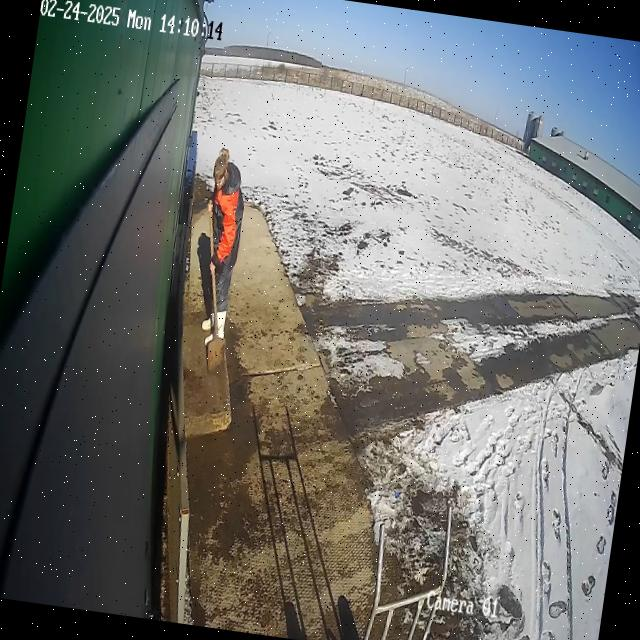Red uniform: (187, 145, 254, 343)
